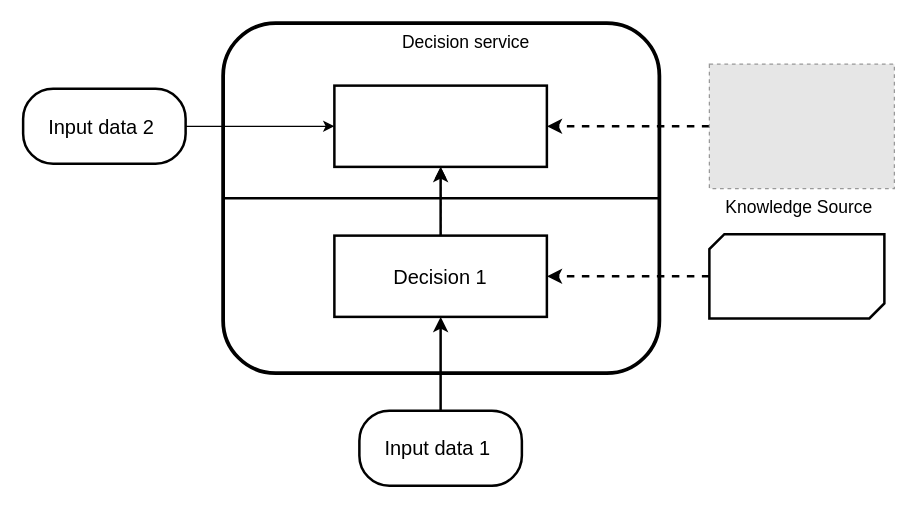
Image size: 916x509. Some labels were removed from this diagram. Grey dashed boxes stand in for pictures. Each missing label, with the centre of its shape:
"Business Knowledge" goes at [796,275].
"Decision 2" goes at [440,126].
